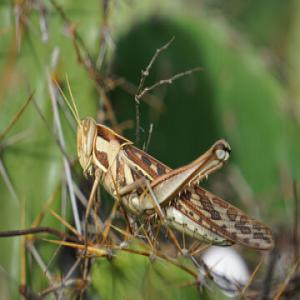locust: (57, 87, 278, 260)
